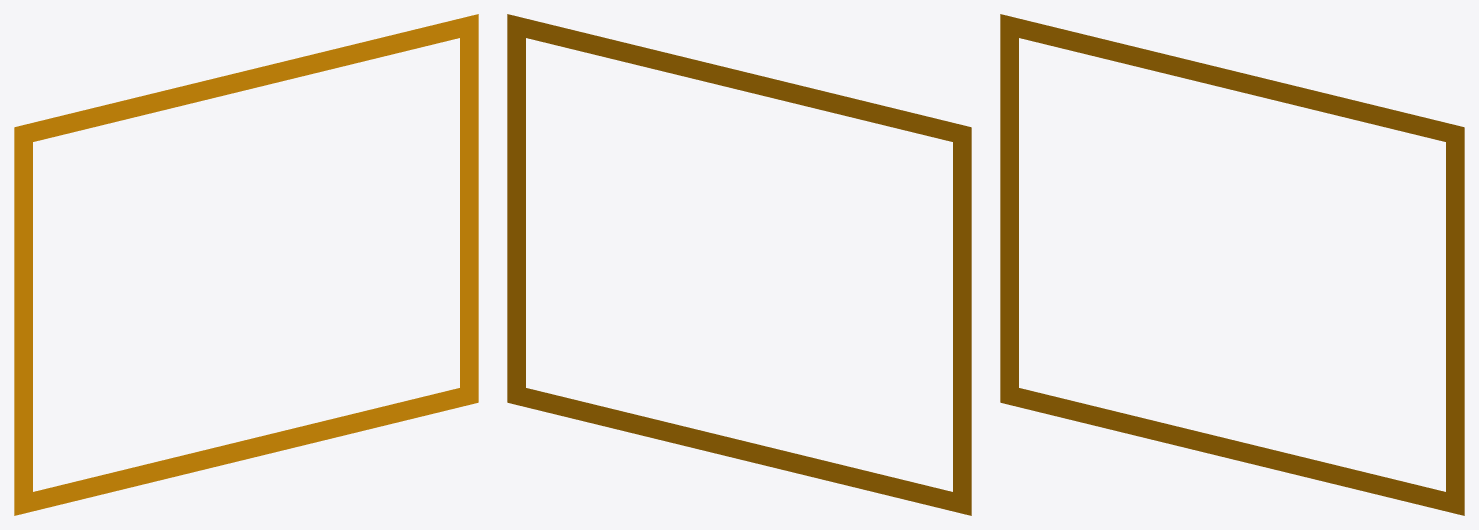
Rendered from RoomHighlighter_Size2.fbx.
3 views of the same model, side by side, from view 1: azimuth 30°, elevation 25°; view 2: azimuth 150°, elevation 25°; view 3: azimuth 330°, elevation 25° (orthographic).
Parts seen in each view (by area): view 1: RoomHighlighterSize2; view 2: RoomHighlighterSize2; view 3: RoomHighlighterSize2.
Part boxes in pixels (x1=…): RoomHighlighterSize2: x1=14, y1=14, x2=478, y2=515; RoomHighlighterSize2: x1=507, y1=14, x2=971, y2=515; RoomHighlighterSize2: x1=1000, y1=14, x2=1464, y2=515.
Size of the model in its own units: 500 by 400 by 0.
